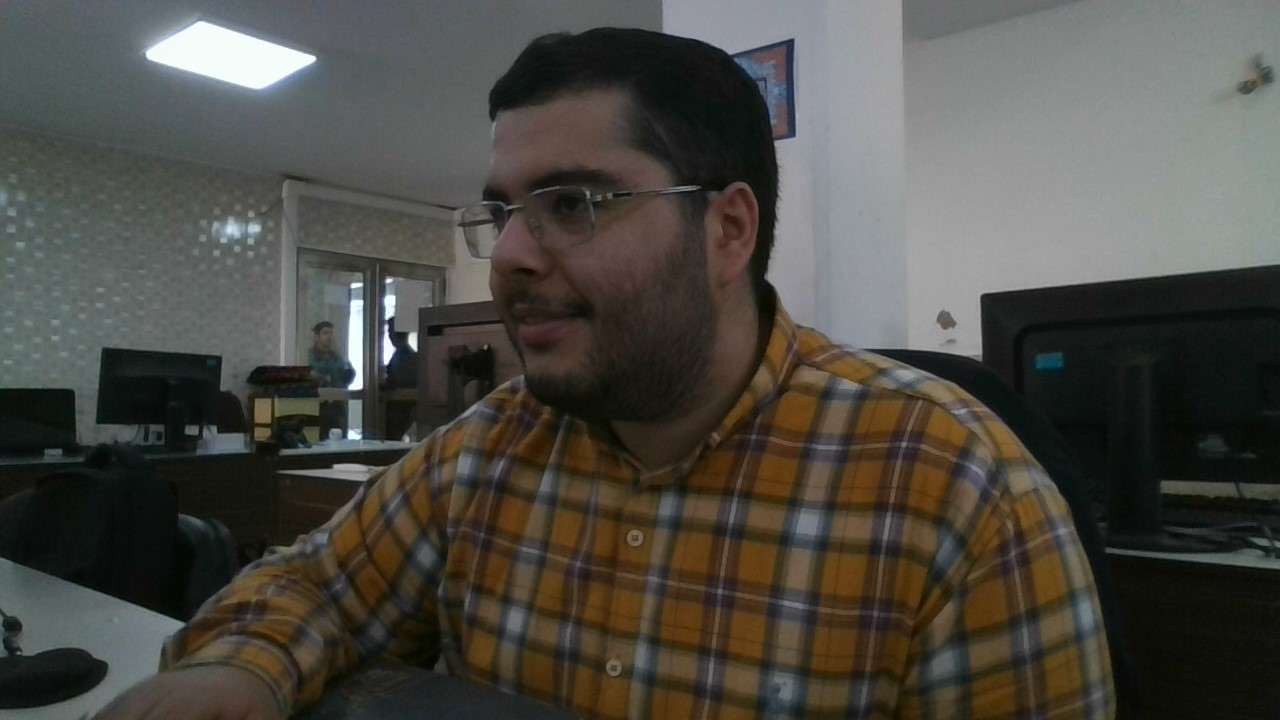NoMask: (485, 234, 737, 414)
